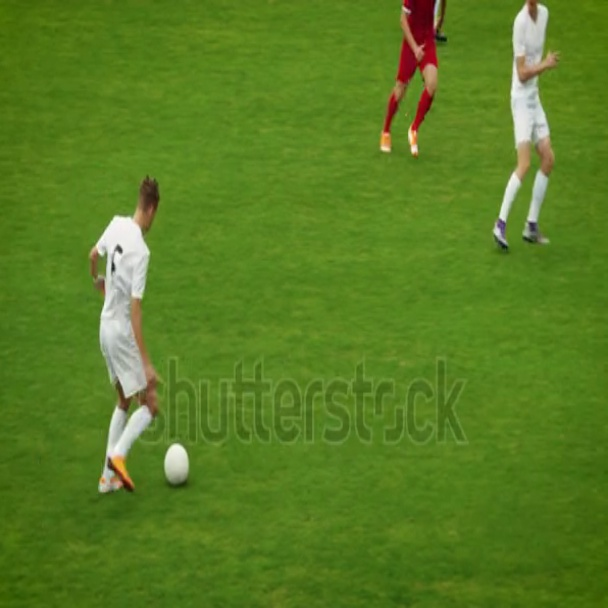ball: (161, 440, 193, 489)
